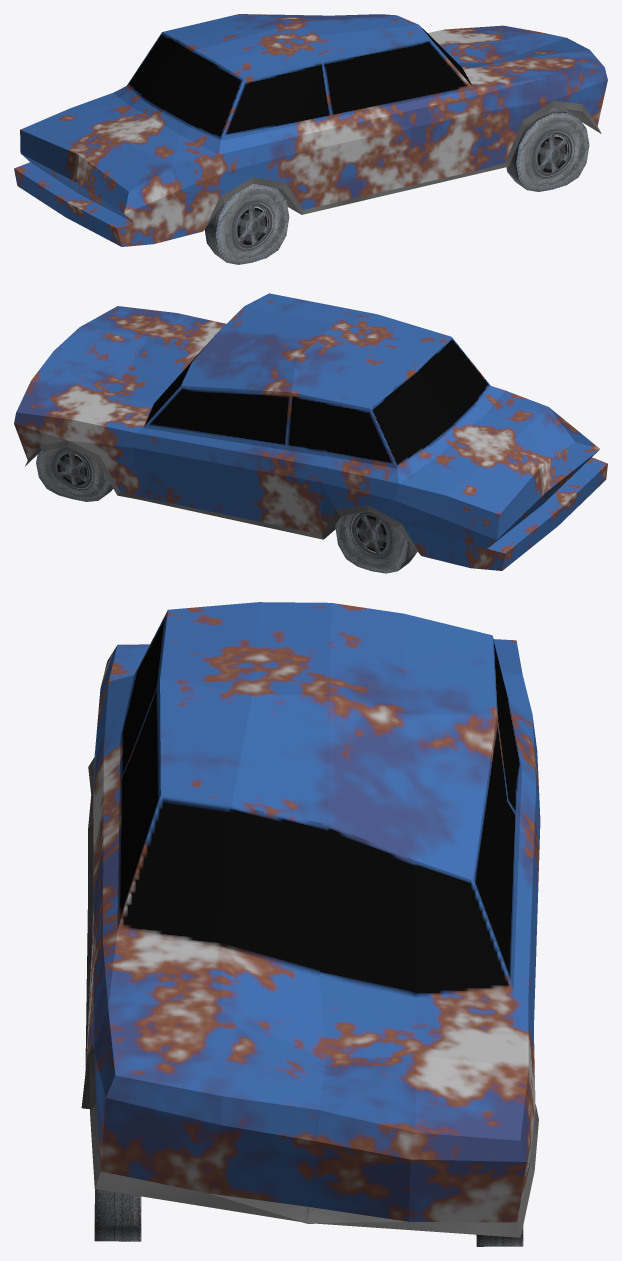
File: Car1.fbx
3 views of the same model, one above another, from view 1: azimuth 30°, elevation 25°; view 2: azimuth 150°, elevation 25°; view 3: azimuth 270°, elevation 25° (orthographic). The views are drawn at different scales.
Parts seen in each view (by area): view 1: pPlane1; view 2: pPlane1; view 3: pPlane1.
Boxes of the visible parts, x1,y1,x2,y2 form: pPlane1: (14, 14, 607, 264); pPlane1: (14, 293, 607, 573); pPlane1: (81, 602, 540, 1246).
Size of the model in its own units: 823 by 268 by 323.
